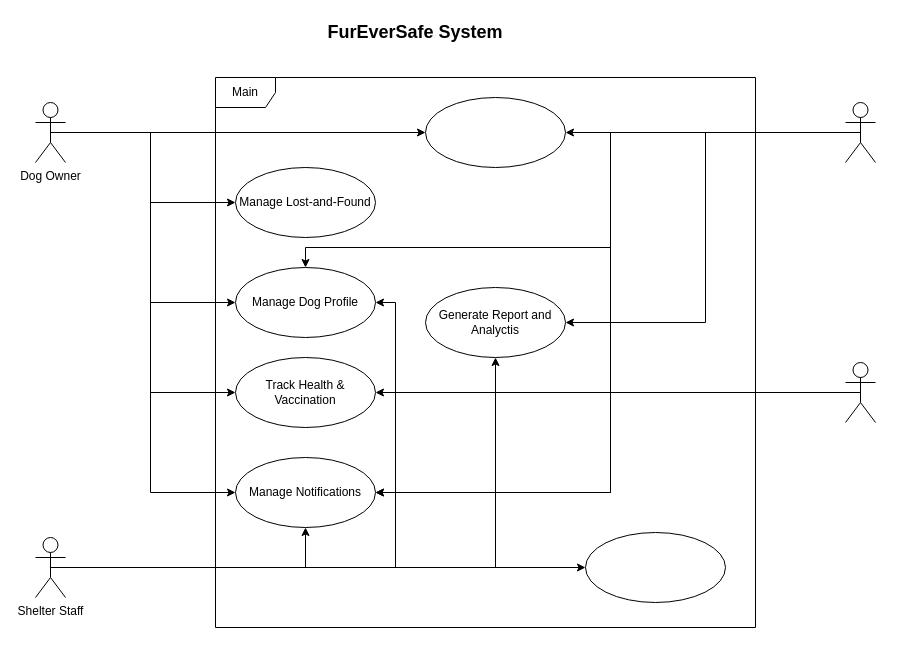
The diagram is 913 pixels wide and 650 high, and some of its shapes have lost their labels. The shapes that lost their labels are listed below. From the top down, each one's box as (x1, y1, x2, y2) in pixels, then its label:
(424, 96, 566, 168): Manage User
(844, 102, 876, 162): Administrator
(844, 362, 876, 422): Veterinarian
(584, 532, 726, 602): Manage Adoption
